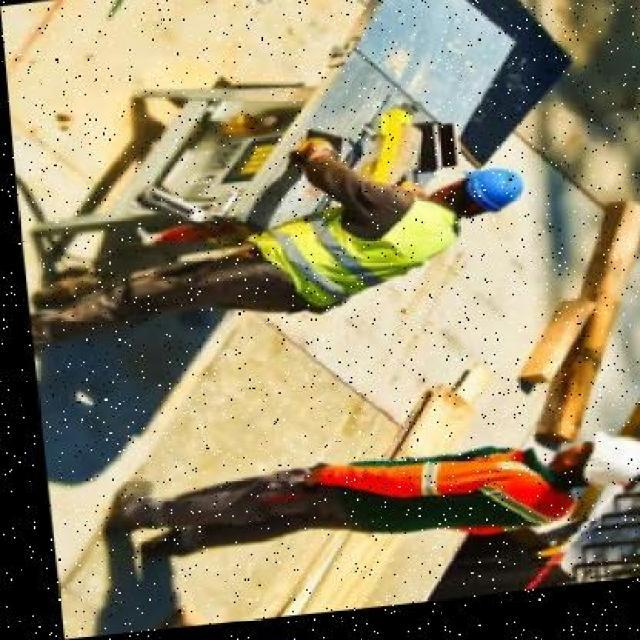helmet: (557, 434, 639, 505), (445, 171, 519, 227)
vest: (274, 191, 459, 324)
